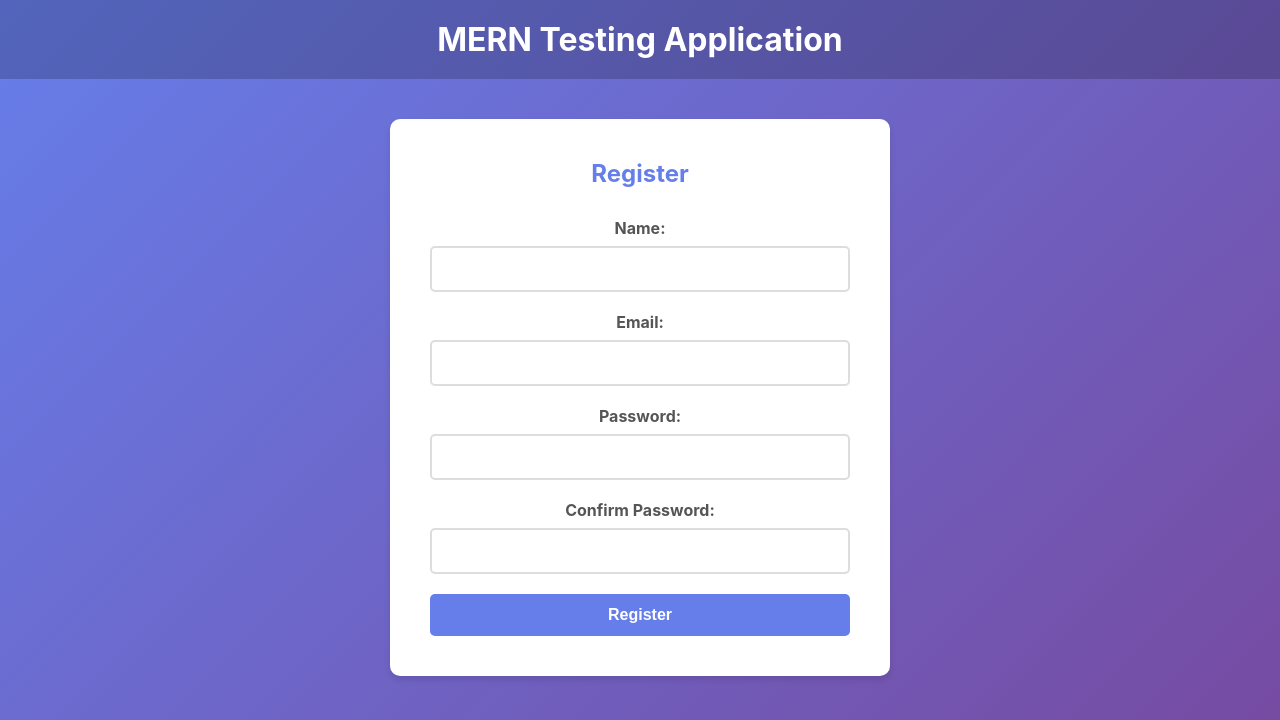
Authentication E2E Tests › Registration Flow › should show error for short password
Type "Test User" into the field with test id "name-input". click: (640, 269)
box: [430,246,850,292]
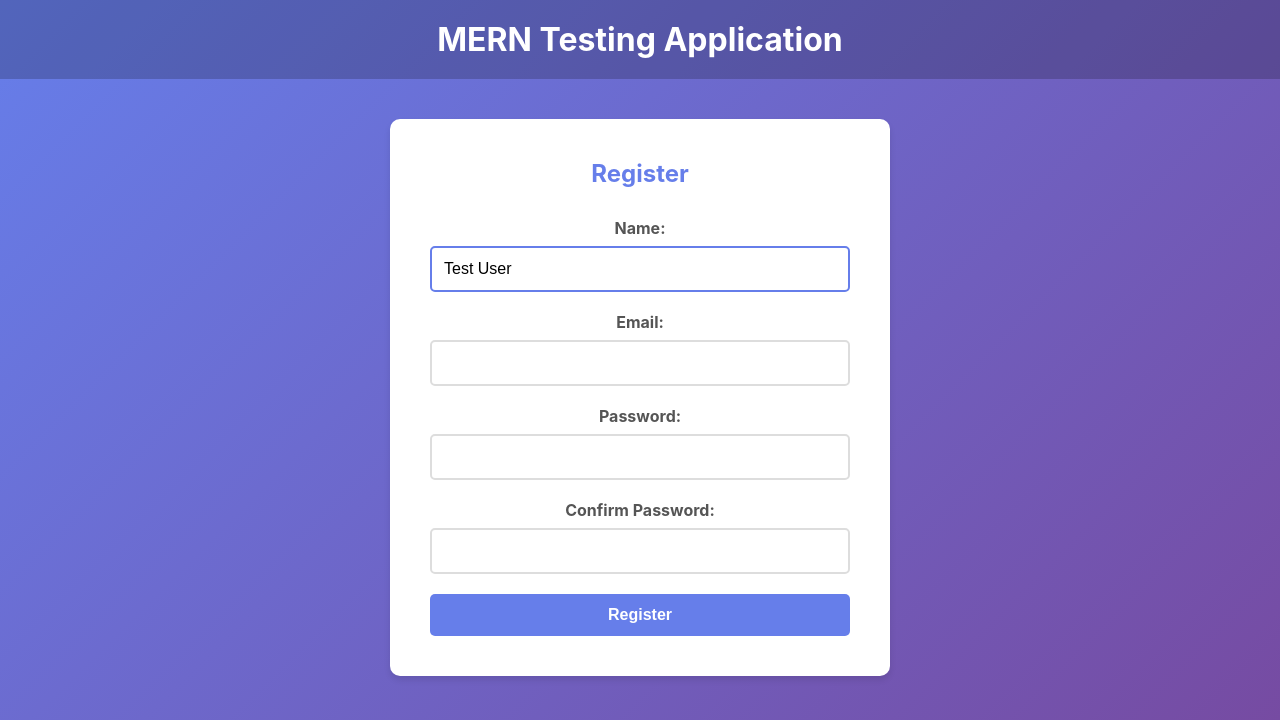
Type "test@example.com" into the field with test id "email-input". click: (640, 363)
box: [430,340,850,386]
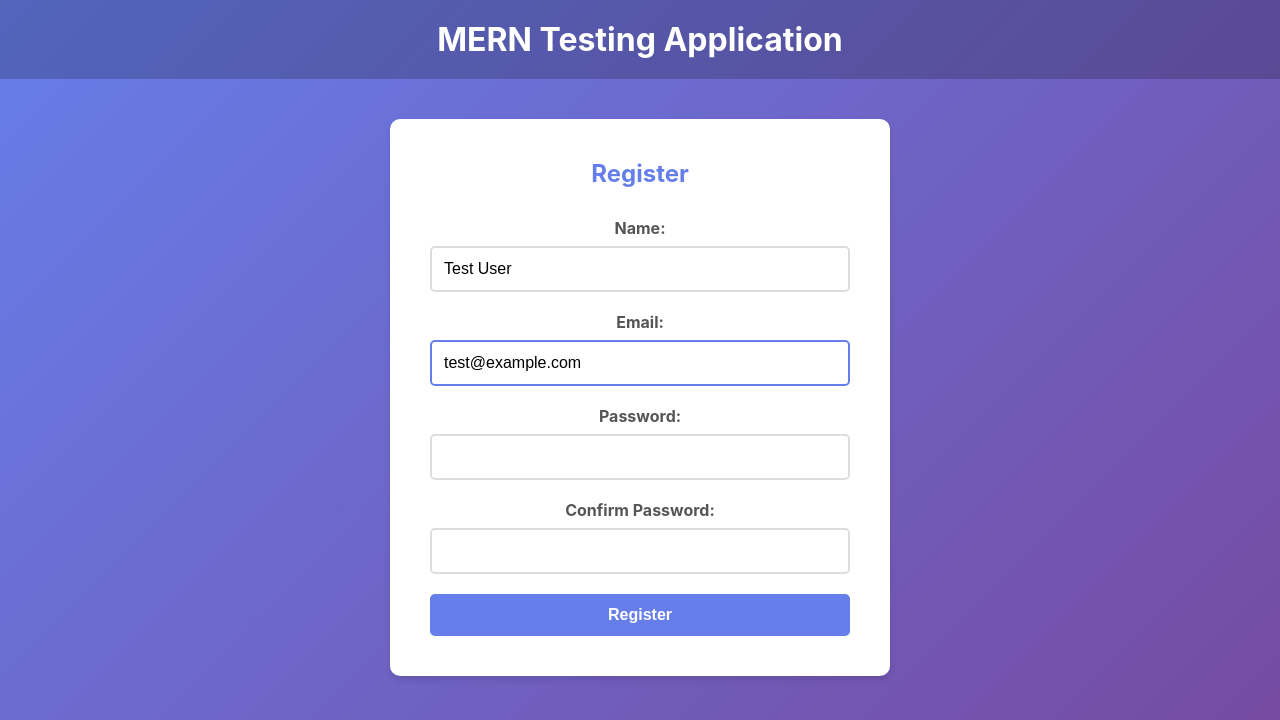
Type "12345" into the password field with test id "password-input". click: (640, 457)
box: [430,434,850,480]
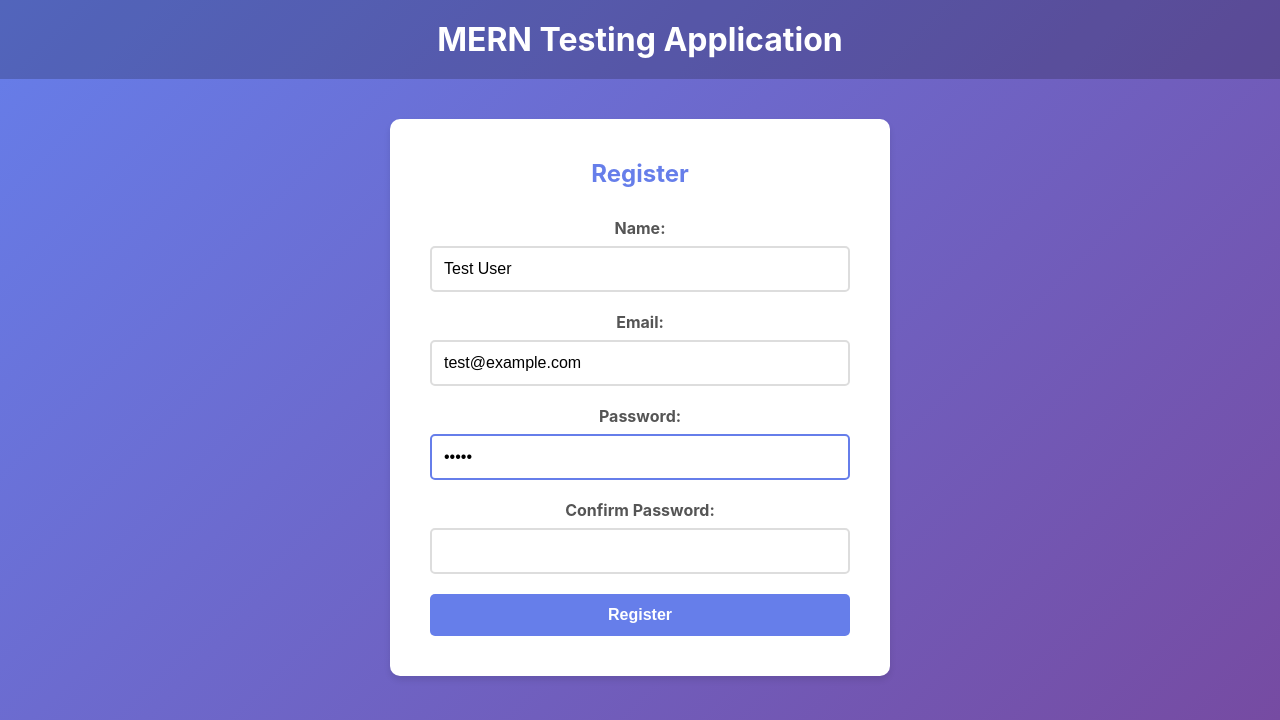
Type "12345" into the password field with test id "confirm-password-input". click: (640, 551)
box: [430,528,850,574]
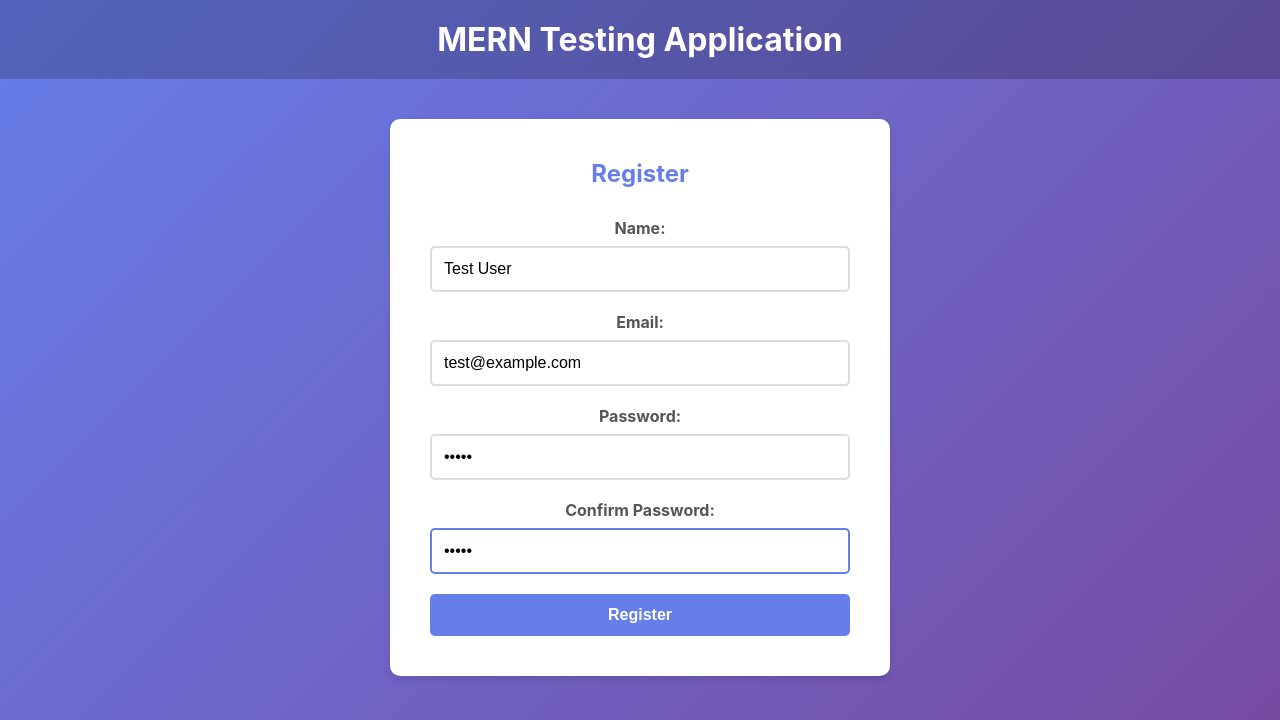
Click the button with test id "submit-button". click: (640, 615)
box: [430,594,850,636]
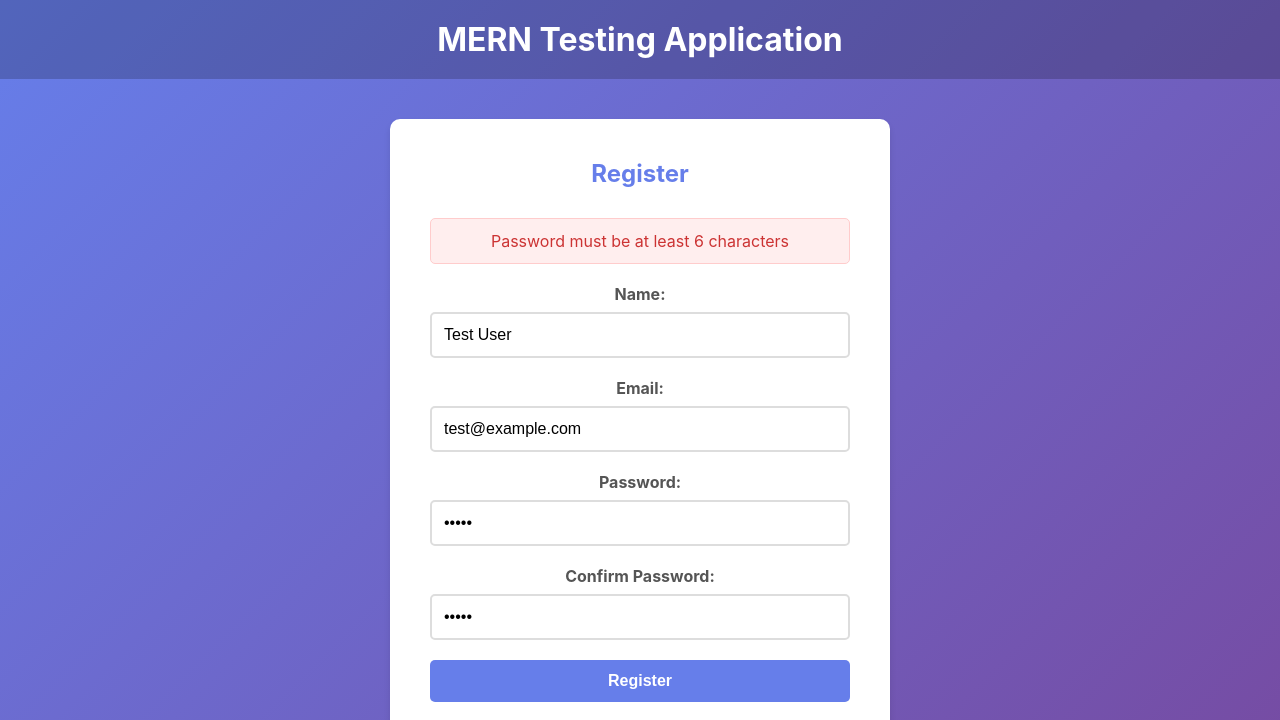
Check: the text "Password must be at least 6 characters" is shown, box [430,218,850,264]
